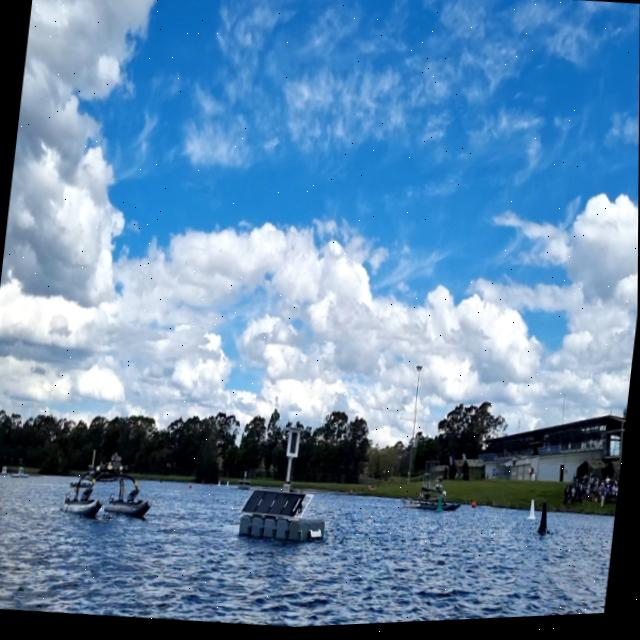led: (287, 433, 299, 459)
